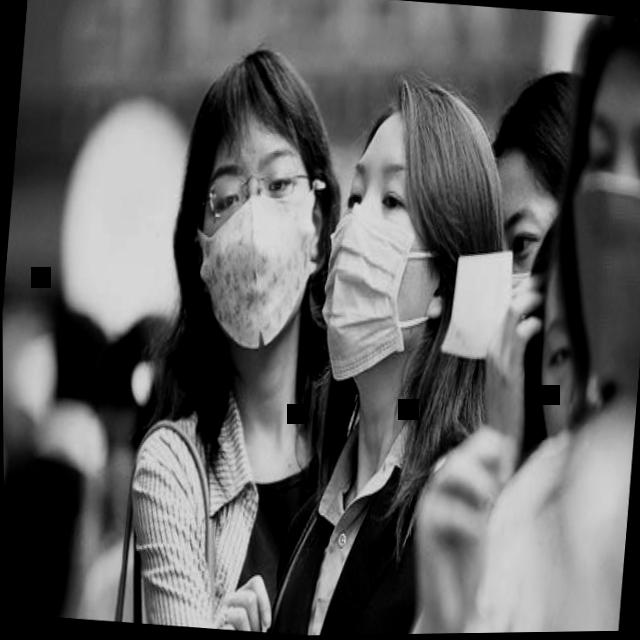Mask: (309, 66, 519, 415), (166, 23, 357, 378), (540, 14, 640, 406)
